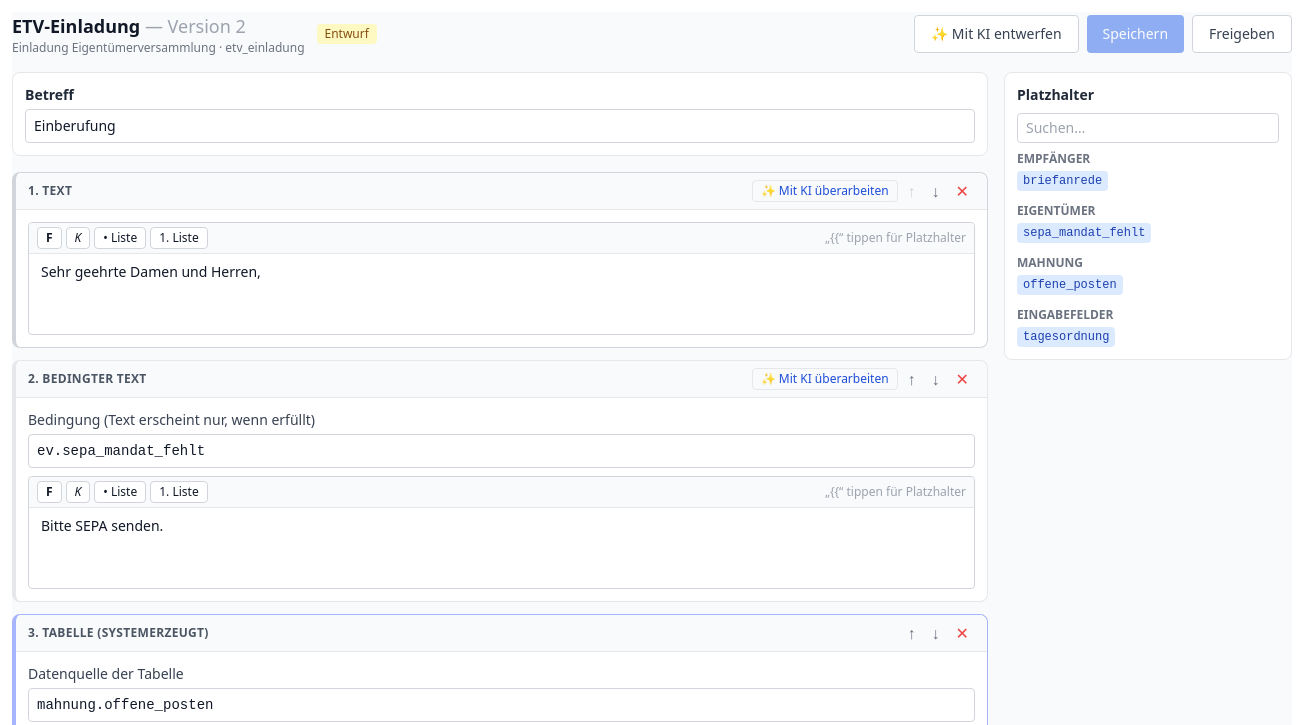
Scenario: VorlagenEditor — Freigabe und Lesemodus › zeigt Freigabe-Fehler (z. B. fehlende Permission) an
This screenshot has width=1304, height=725.
Click the button "Freigeben". click: click(1242, 34)
box: 1192,15 -> 1292,53
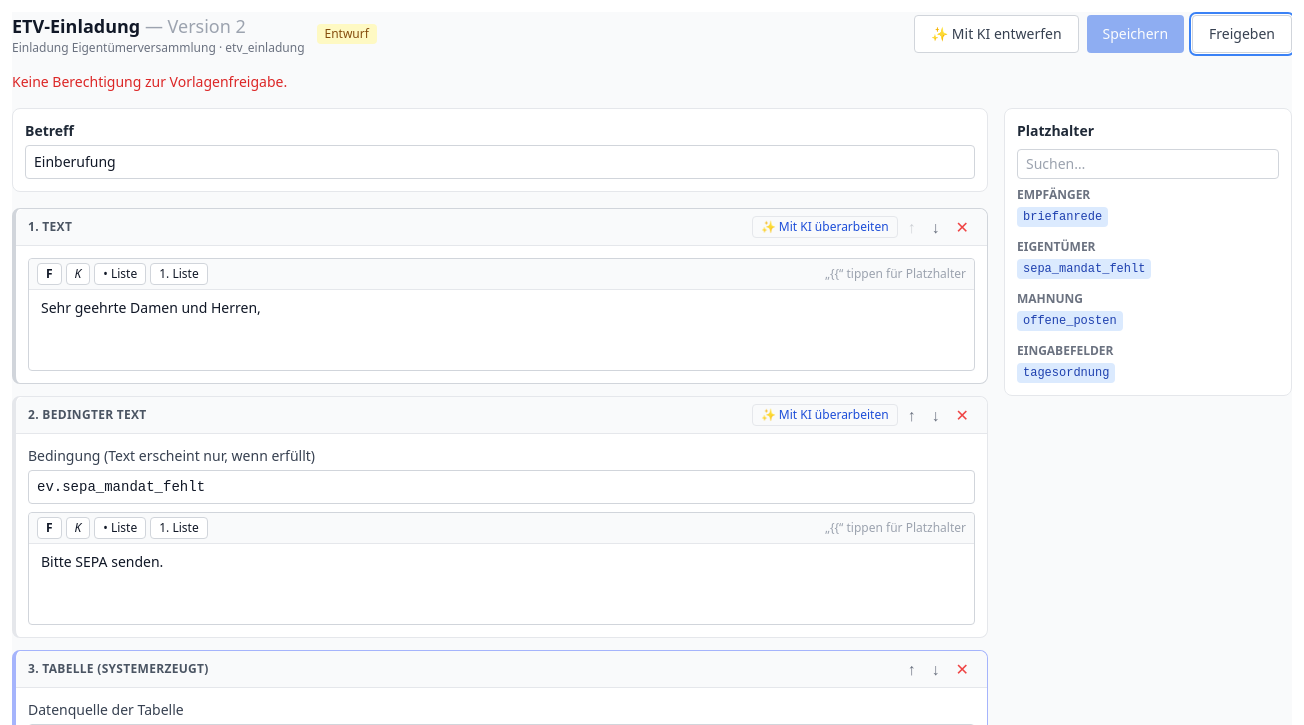
Check: the message reads "Keine Berechtigung zur Vorlagenfreigabe.", box 12,72 -> 287,91
